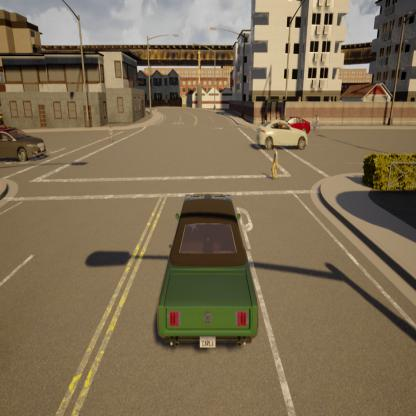Cars: (158, 192, 260, 352), (0, 121, 46, 166), (256, 118, 312, 151), (311, 104, 323, 137)
Pedestrian: (271, 145, 279, 180)
